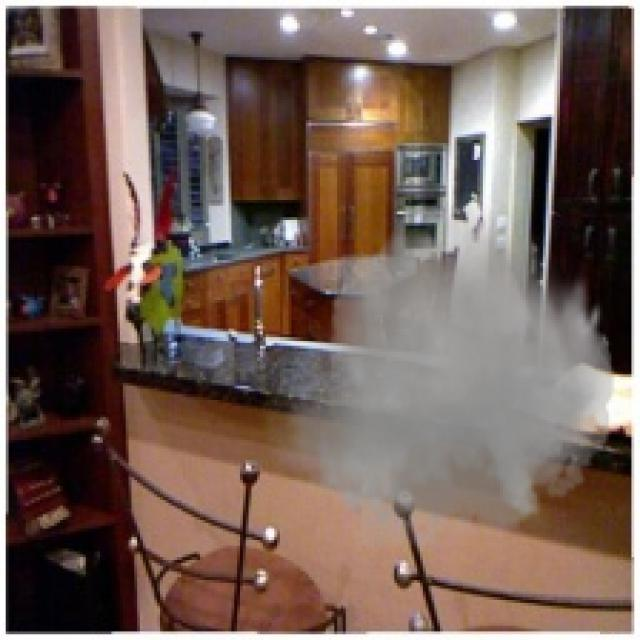smoke: (260, 183, 623, 566)
